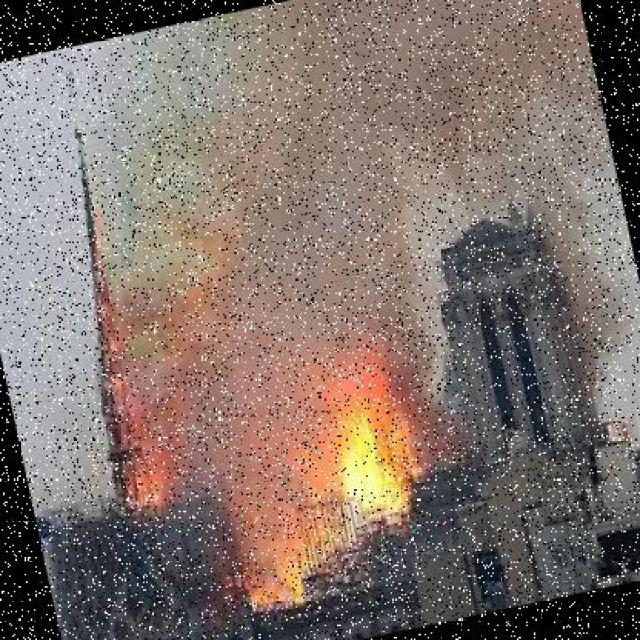fire: (301, 341, 437, 534)
